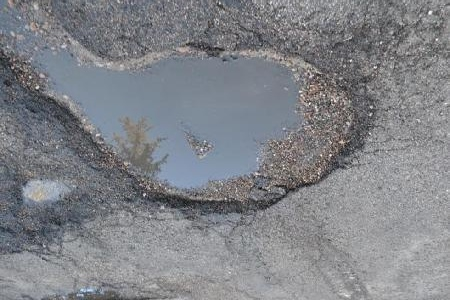pothole: (51, 41, 379, 221), (0, 174, 86, 244), (58, 286, 123, 300)
